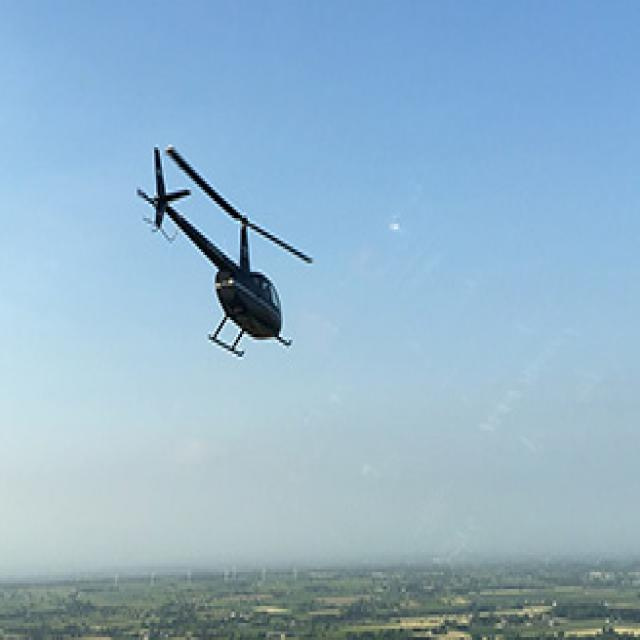helicopter: (130, 143, 329, 355)
